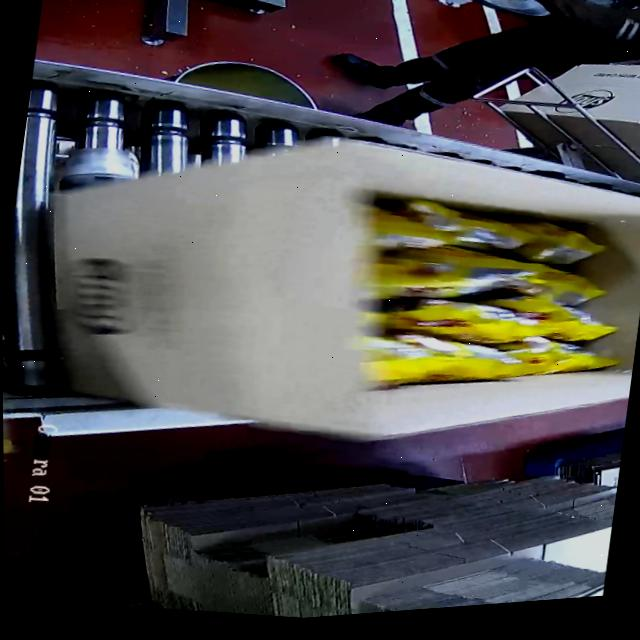SALTED: (371, 182, 598, 411)
